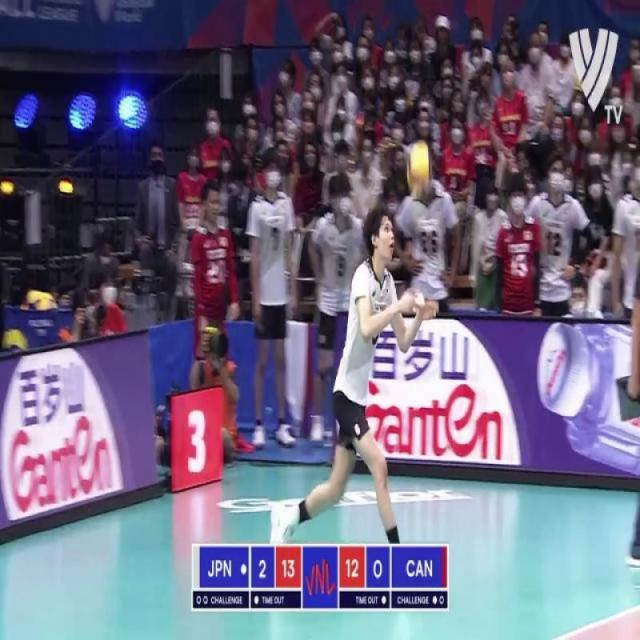volleyball: (406, 139, 434, 192)
